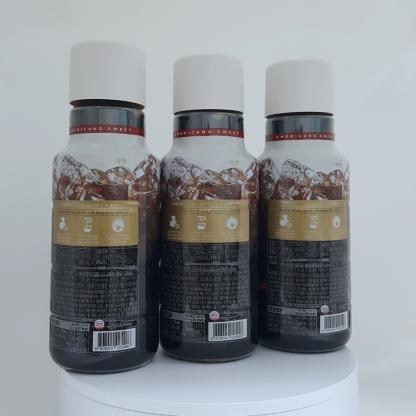--------------1-1L: (49, 41, 161, 373), (159, 53, 259, 363), (256, 59, 352, 353)
